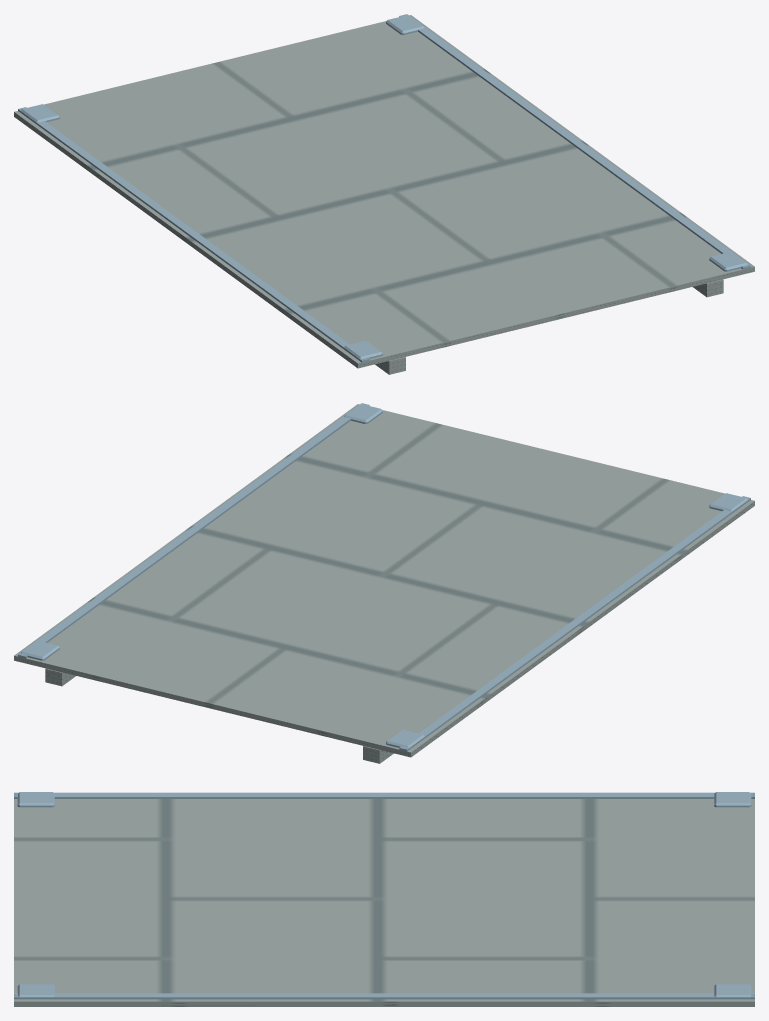
The model's file is bridge-concrete-2x3.glb.
3 views of the same model, one above another, from view 1: azimuth 30°, elevation 25°; view 2: azimuth 150°, elevation 25°; view 3: azimuth 270°, elevation 25° (orthographic). The views are drawn at different scales.
Parts seen in each view (by area): view 1: bridge-concrete-2x3; view 2: bridge-concrete-2x3; view 3: bridge-concrete-2x3.
Part boxes in pixels (x1,y1,x2,y2): bridge-concrete-2x3: (14,14,754,374); bridge-concrete-2x3: (14,403,754,763); bridge-concrete-2x3: (14,792,754,1006).
Bounding box in the file's own units: 2 × 0.1075 × 3.
Materials: 1 (1 with a texture image).
